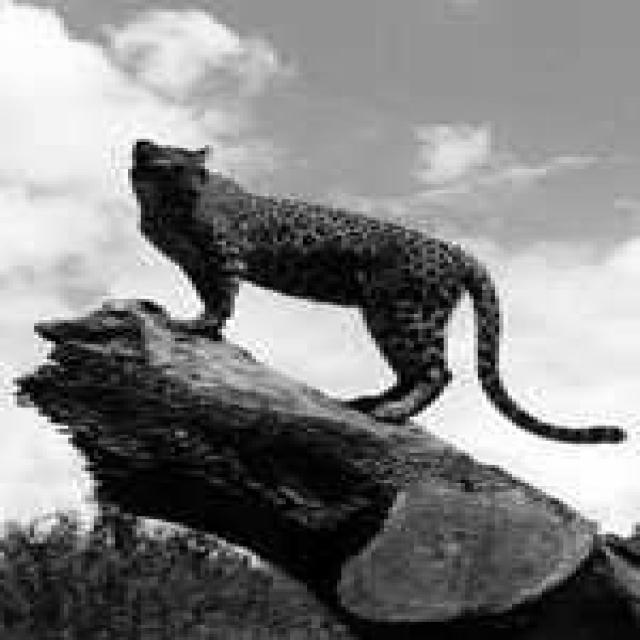Leopard: (124, 136, 627, 444)
